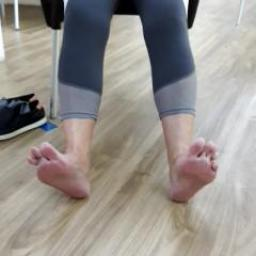Plantar View -Both Feet-: (8, 113, 248, 229)
